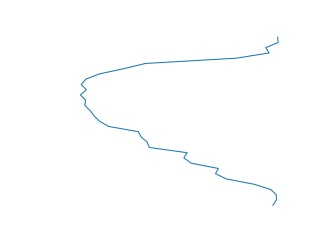mouthBar: (76, 36, 288, 205)
